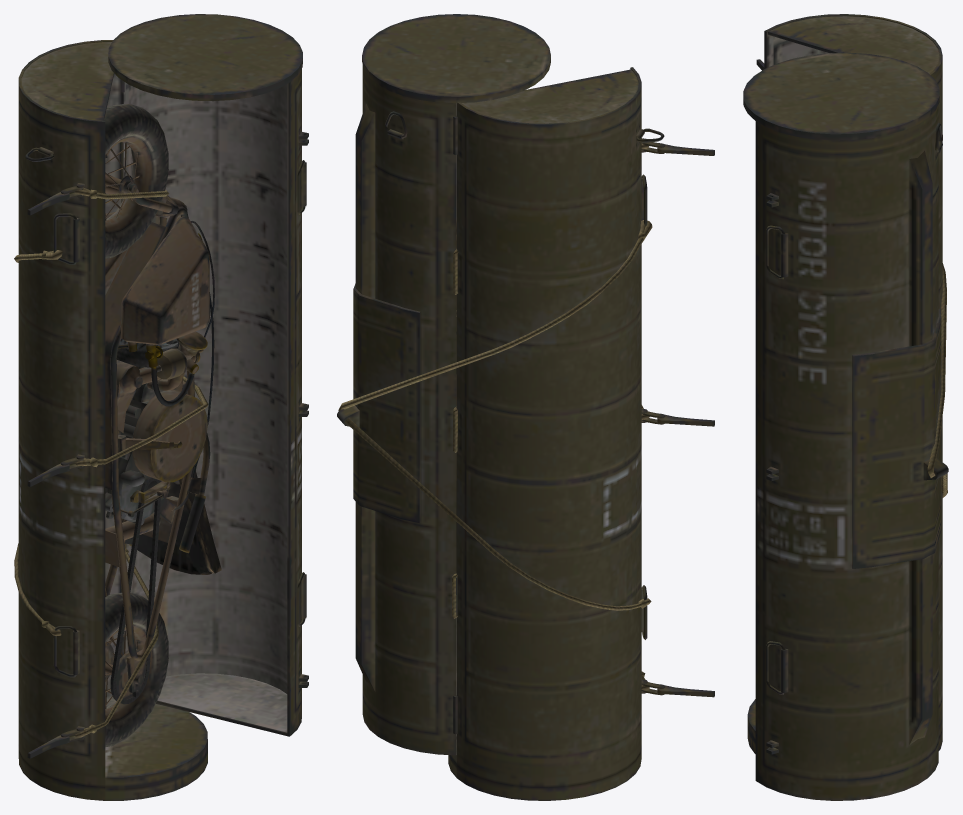
File: Motobike.fbx
3 renders of one model, left to right at view 1: azimuth 30°, elevation 25°; view 2: azimuth 150°, elevation 25°; view 3: azimuth 270°, elevation 25°, orthographic.
Visible parts, largest first — view 1: set_0_group_0; view 2: set_0_group_0; view 3: set_0_group_0.
Part boxes in pixels (bbox=[...]): set_0_group_0: bbox=[14, 14, 308, 800]; set_0_group_0: bbox=[337, 14, 714, 800]; set_0_group_0: bbox=[743, 14, 948, 800].
Size of the model in its own units: 65.73 by 142 by 38.38.
Materials: 1 (1 with a texture image).
